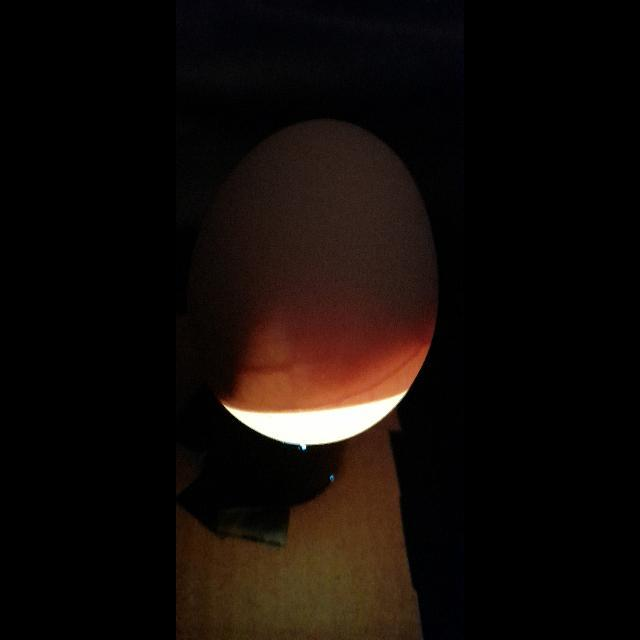Fertile: (204, 112, 438, 444)
